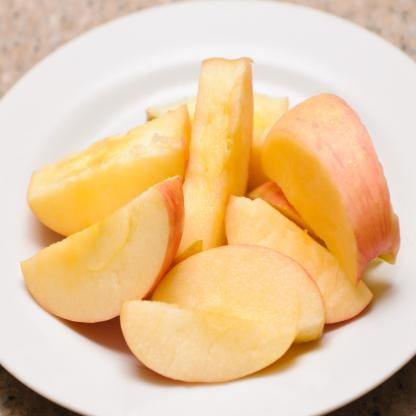--: (263, 88, 411, 287), (19, 92, 197, 248), (13, 172, 184, 320), (154, 59, 274, 256), (155, 235, 330, 357), (104, 290, 306, 388)
